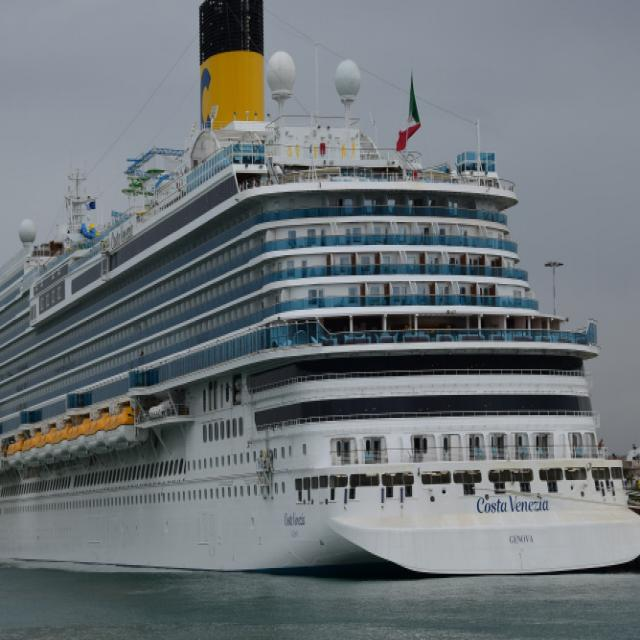cruises: (1, 1, 640, 596)
